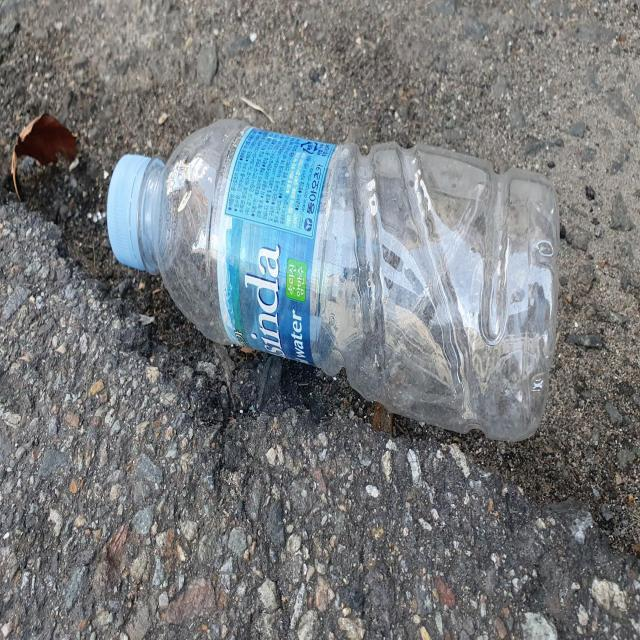plastic: (106, 118, 560, 440)
